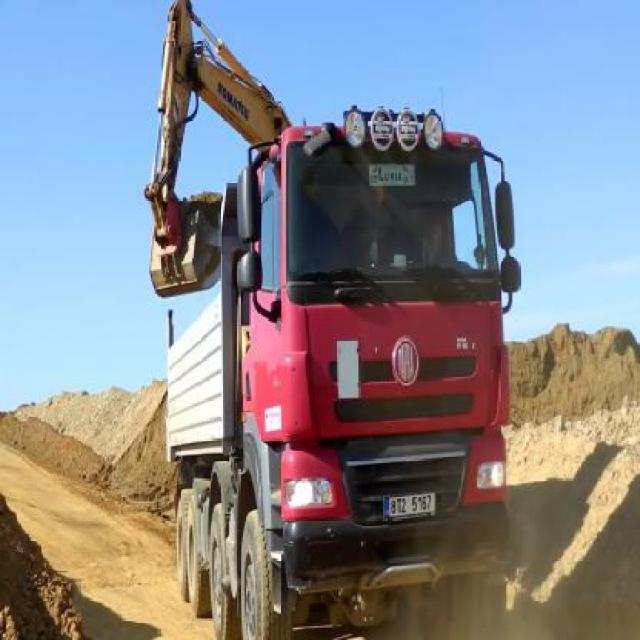dump_truck: (166, 110, 520, 635)
excavator: (139, 0, 295, 298)
